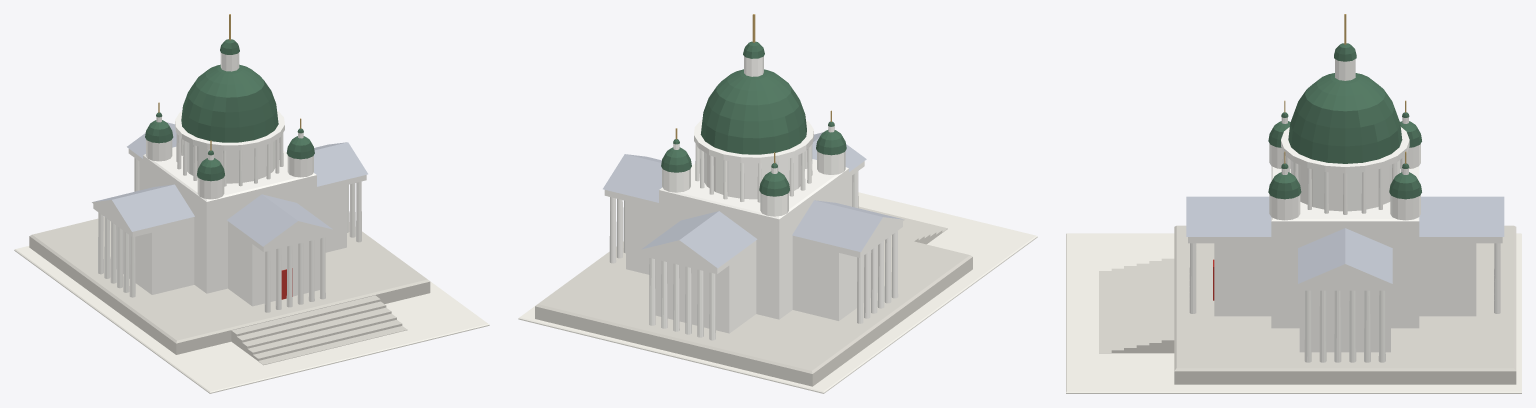
The model's file is helsinki.glb.
3 renders of one model, left to right at view 1: azimuth 30°, elevation 25°; view 2: azimuth 150°, elevation 25°; view 3: azimuth 270°, elevation 25°, orthographic. The views are drawn at different scales.
Parts seen in each view (by area): view 1: model; view 2: model; view 3: model.
Part boxes in pixels (left/top/right/bottom): model: left=14, top=14, right=489, bottom=393; model: left=518, top=14, right=1037, bottom=393; model: left=1066, top=14, right=1521, bottom=393.
Bounding box in the file's own units: 66 × 58.1 × 80.
